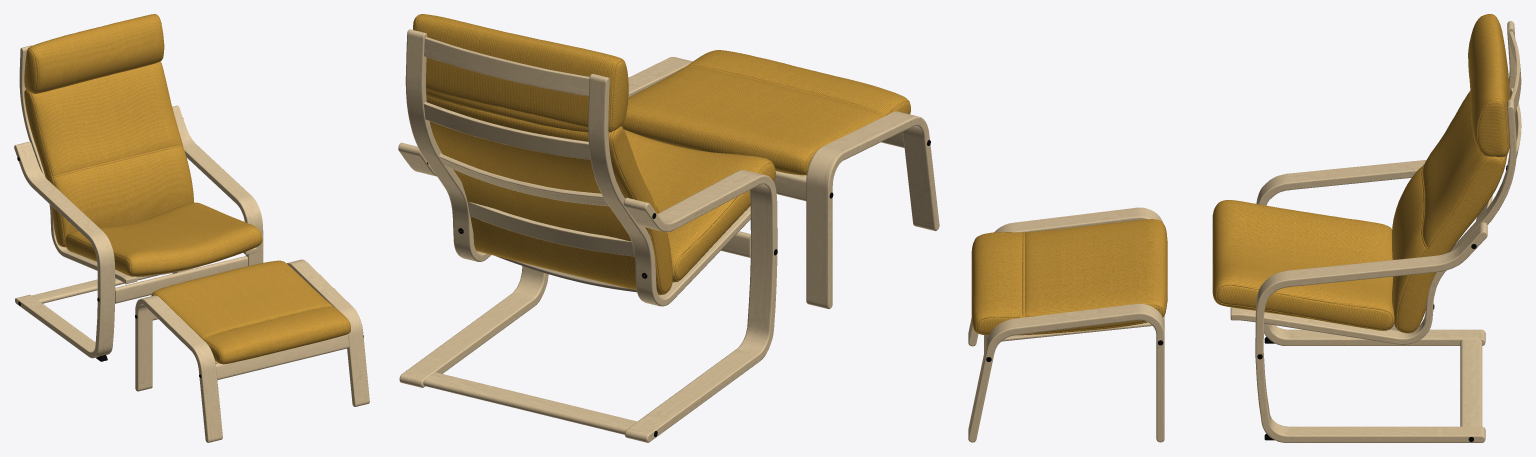
File: poang_fotel_podnozek_29617728.glb
3 views of the same model, side by side, from view 1: azimuth 30°, elevation 25°; view 2: azimuth 150°, elevation 25°; view 3: azimuth 270°, elevation 25° (orthographic). The views are drawn at different scales.
Parts seen in each view (by area): view 1: poang_fotel_podnozek_29617728; view 2: poang_fotel_podnozek_29617728; view 3: poang_fotel_podnozek_29617728.
Part boxes in pixels (box(x1,y1,x2,y2)): poang_fotel_podnozek_29617728: box(14, 14, 369, 442); poang_fotel_podnozek_29617728: box(398, 14, 939, 442); poang_fotel_podnozek_29617728: box(968, 14, 1521, 442).
Size of the model in its own units: 0.6868 by 1 by 1.49.
5 materials, 3 textured.
